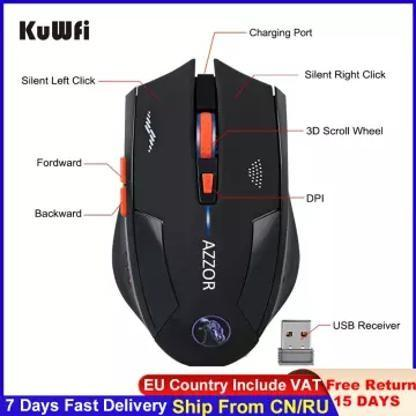not trash: (112, 56, 295, 362), (275, 308, 320, 366)
